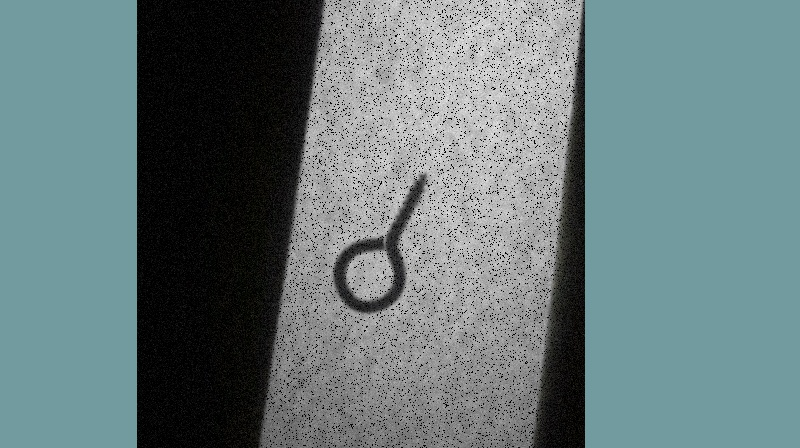O001: (325, 169, 429, 319)
